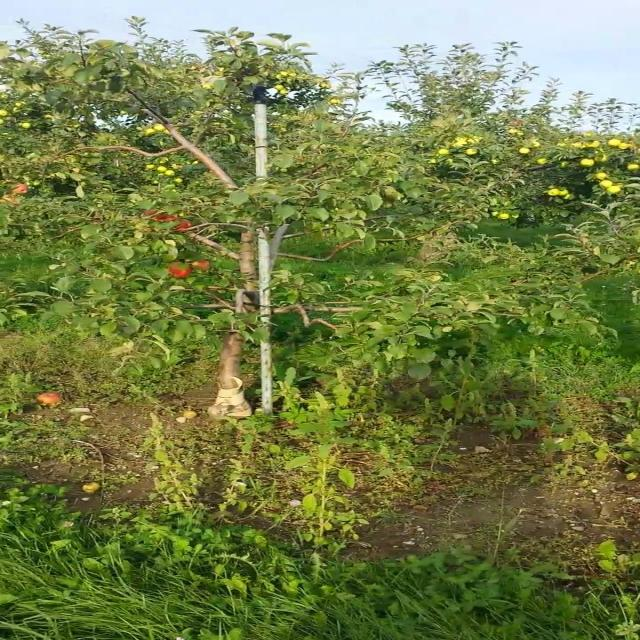apple: (170, 264, 192, 279), (191, 260, 213, 271), (156, 212, 176, 223), (148, 212, 171, 221), (177, 220, 192, 232), (156, 216, 178, 223), (13, 184, 28, 194), (6, 196, 20, 204)
